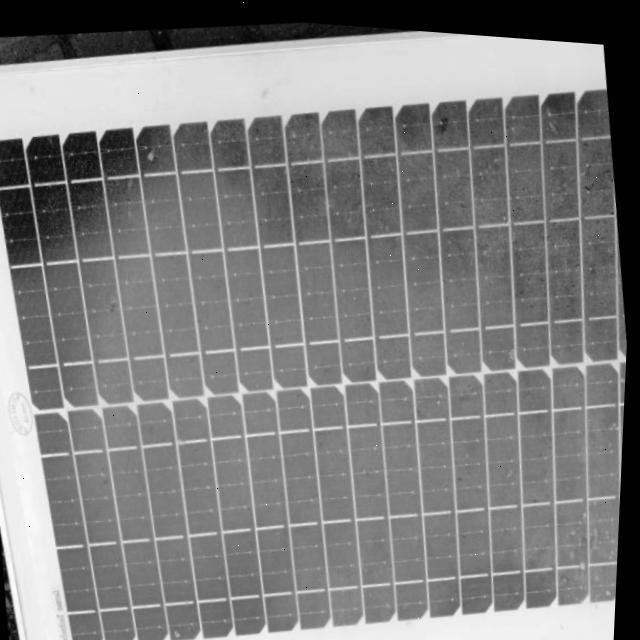Surface Contaminant: (6, 55, 630, 640)
